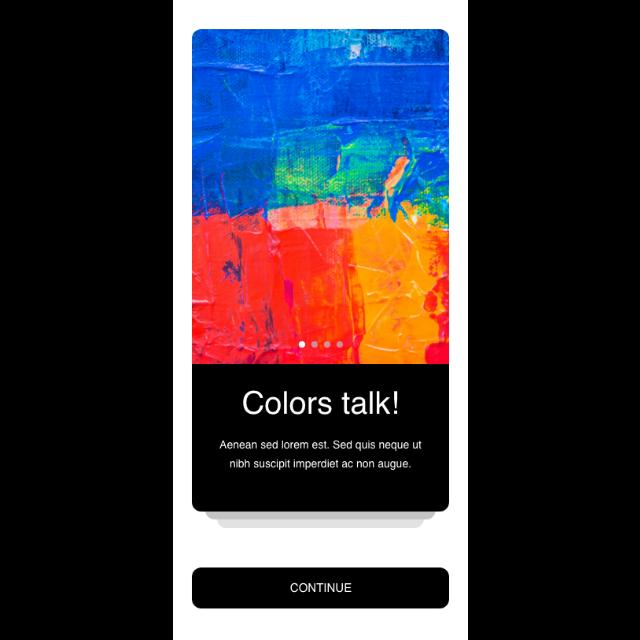image: (192, 30, 450, 364)
pageindicator: (292, 337, 348, 351)
text: (218, 440, 422, 470), (242, 390, 398, 416)
textbutton: (192, 568, 448, 608)
